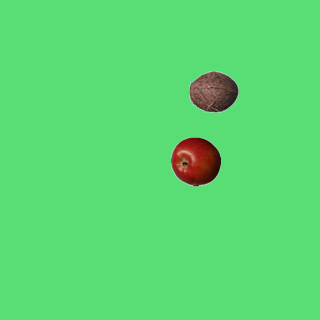Apple Braeburn: (170, 136, 220, 186)
Cocos: (188, 66, 238, 116)
